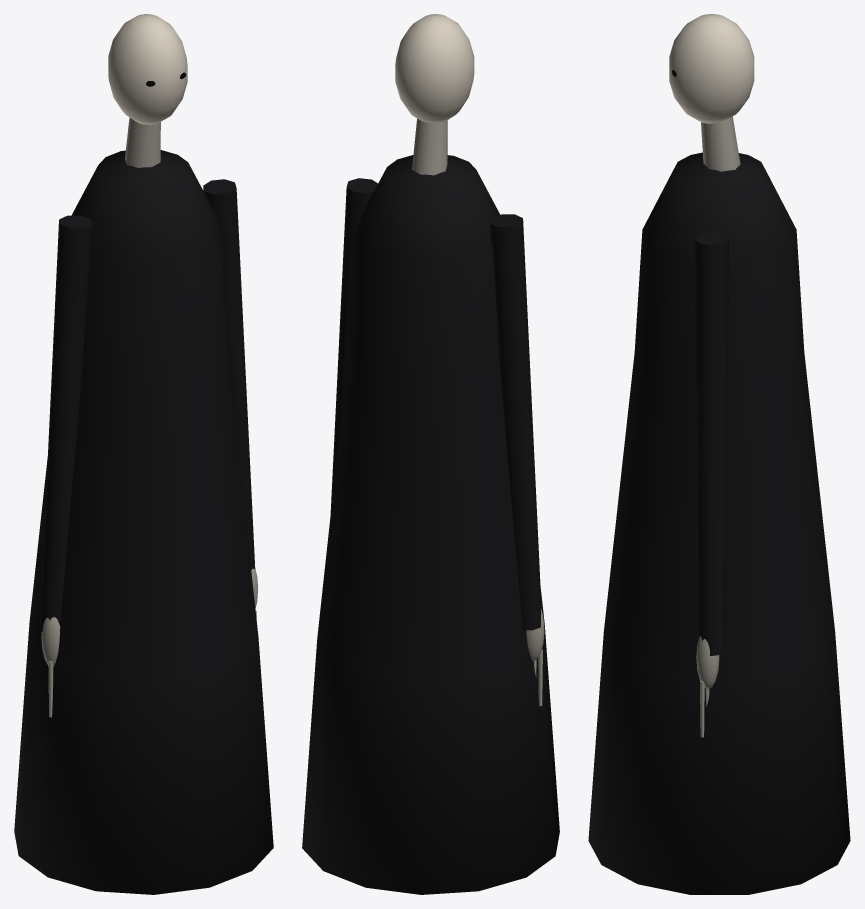
File: entity-hollow.glb
3 renders of one model, left to right at view 1: azimuth 30°, elevation 25°; view 2: azimuth 150°, elevation 25°; view 3: azimuth 270°, elevation 25°, orthographic.
Visible parts, largest first — view 1: coatBlack, skull, skinGrey; view 2: coatBlack, skull, skinGrey; view 3: coatBlack, skull, skinGrey.
Part boxes in pixels (x1,y1,x2,y2): coatBlack: [14, 150, 273, 894]; skull: [108, 14, 187, 124]; skinGrey: [41, 117, 258, 717]; coatBlack: [302, 155, 559, 894]; skull: [395, 14, 474, 122]; skinGrey: [412, 118, 544, 706]; coatBlack: [588, 152, 850, 894]; skull: [669, 14, 754, 123]; skinGrey: [696, 116, 740, 737].
Size of the model in its own units: 0.663 by 2.36 by 0.68.
